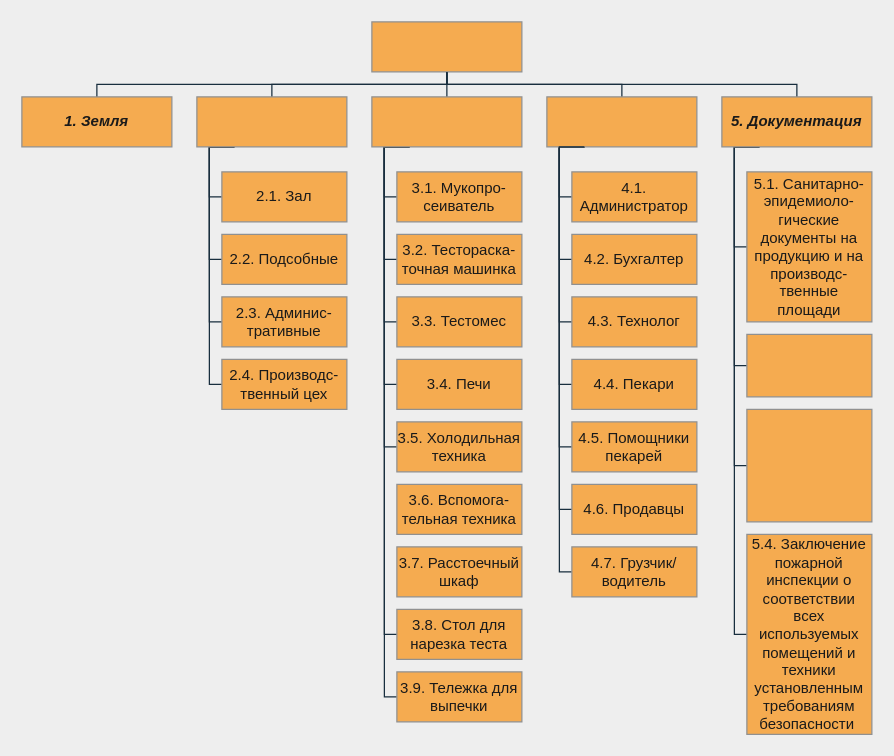
Image size: 894x756. Some labels were removed from this diagram. Here are the shapes that lost their labels. From the top down, the centre of each, then its label:
point (446, 46): Пекарня
point (271, 121): 2. Помещения
point (446, 121): 3. Оборудование
point (621, 121): 4. Персонал
point (809, 365): 5.2. Сертификаат соответствия на продукцию
point (809, 465): 5.3. Разрешительная резолюция экологических надзорных органов
